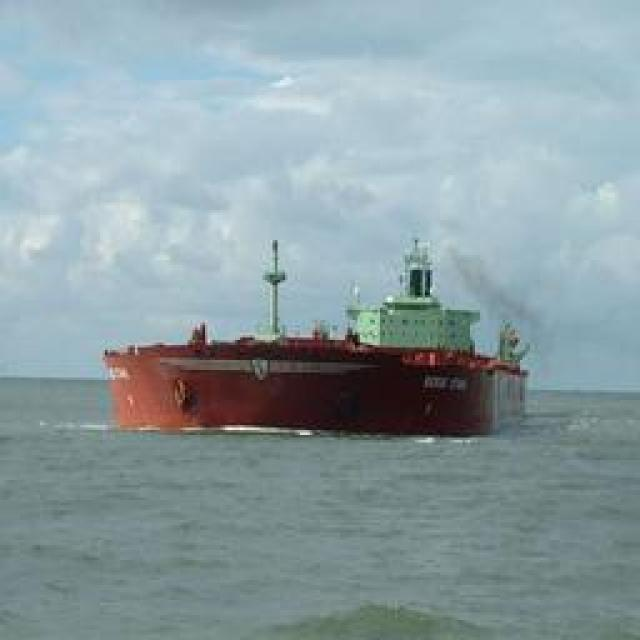CIV_Ship: (108, 226, 530, 439)
